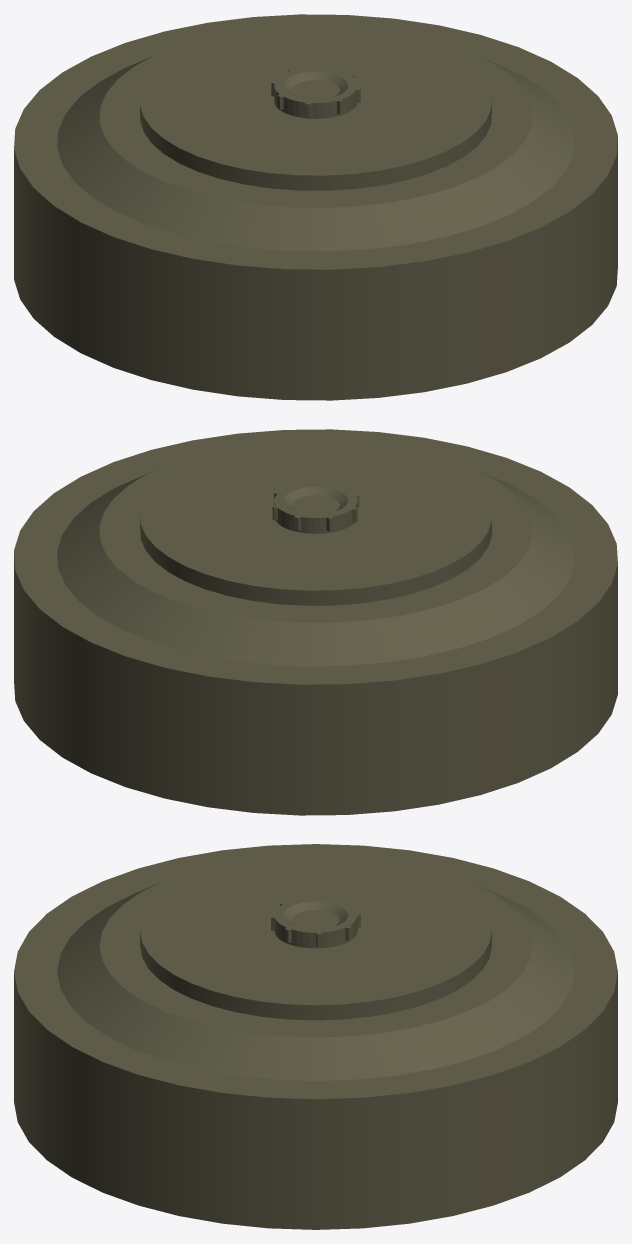
Rendered from K3_bomb_111.fbx.
The picture shows the model from 3 angles, top to bottom: view 1: azimuth 30°, elevation 25°; view 2: azimuth 150°, elevation 25°; view 3: azimuth 270°, elevation 25°; orthographic projection.
Parts seen in each view (by area): view 1: polySurface92; view 2: polySurface92; view 3: polySurface92.
Boxes of the visible parts, left/top/right/bottom form: polySurface92: left=14, top=14, right=617, bottom=400; polySurface92: left=14, top=429, right=617, bottom=815; polySurface92: left=14, top=844, right=617, bottom=1229.
Size of the model in its own units: 4.68 by 1.6 by 4.68.
